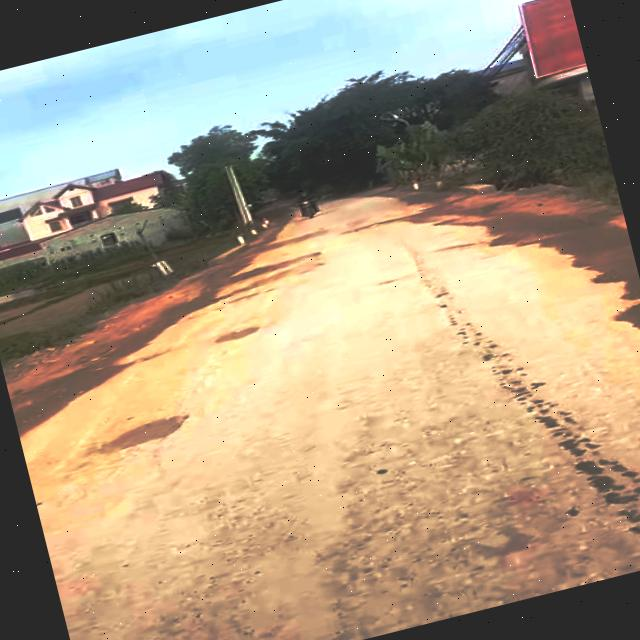pothole: (95, 402, 198, 456)
